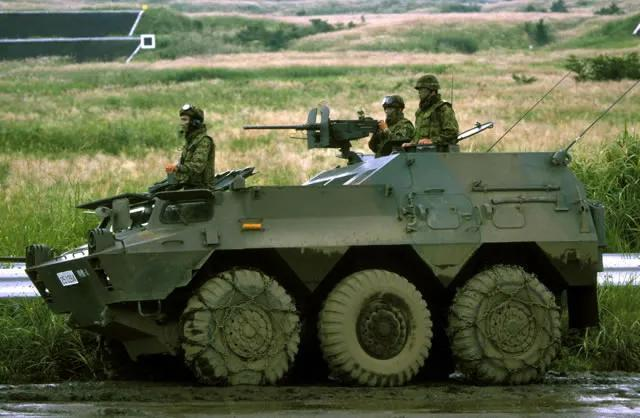MIL_IFV: (27, 111, 599, 390)
